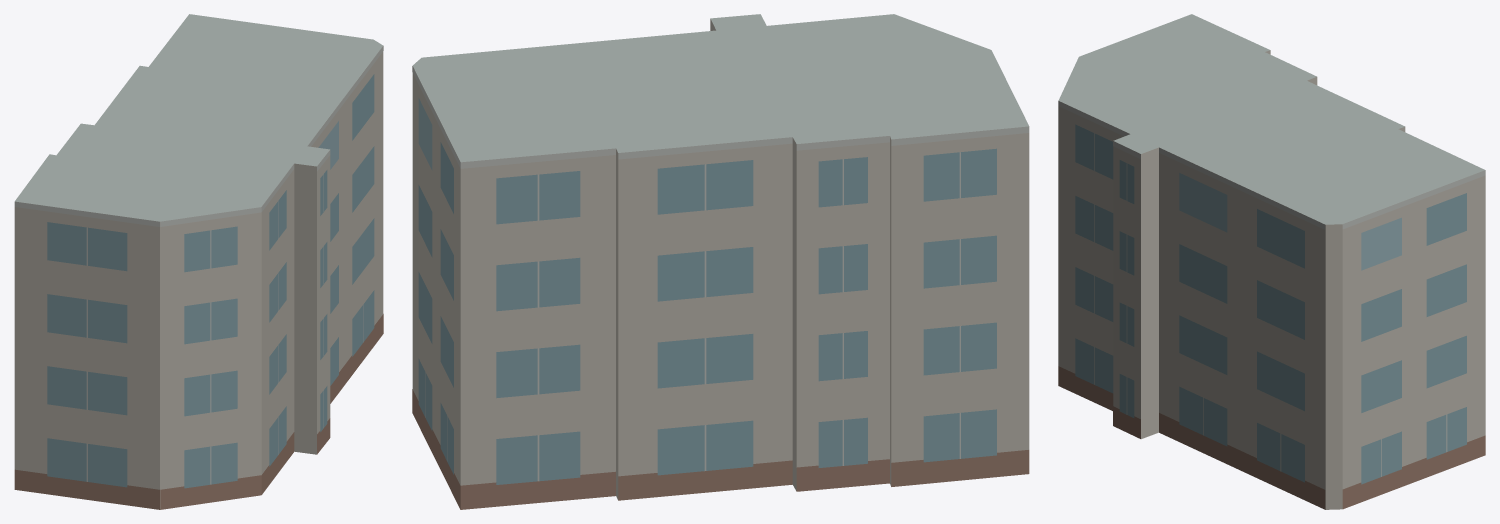
Rendered from survey-upis-33007758.glb.
3 renders of one model, left to right at view 1: azimuth 30°, elevation 25°; view 2: azimuth 150°, elevation 25°; view 3: azimuth 270°, elevation 25°, orthographic. The views are drawn at different scales.
Parts seen in each view (by area): view 1: survey-upis-33007758.tmp; view 2: survey-upis-33007758.tmp; view 3: survey-upis-33007758.tmp.
Part boxes in pixels (x1,y1,x2,y2): survey-upis-33007758.tmp: [14, 14, 383, 509]; survey-upis-33007758.tmp: [412, 14, 1029, 509]; survey-upis-33007758.tmp: [1058, 14, 1485, 509].
Bounding box in the file's own units: 20.72 × 13.07 × 17.75.
